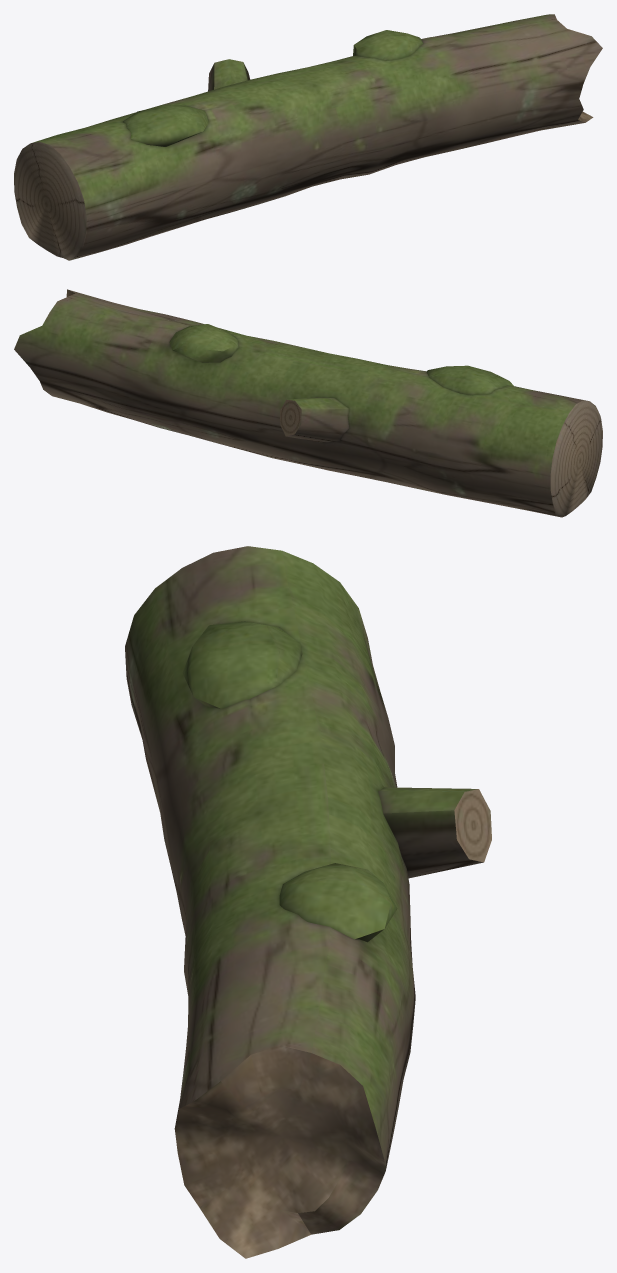
Rendered from fm_log_mossy_fallen_a.glb.
The picture shows the model from 3 angles, top to bottom: view 1: azimuth 30°, elevation 25°; view 2: azimuth 150°, elevation 25°; view 3: azimuth 270°, elevation 25°; orthographic projection. The views are drawn at different scales.
Visible parts, largest first — view 1: fm_log_mossy_fallen_a; view 2: fm_log_mossy_fallen_a; view 3: fm_log_mossy_fallen_a.
Boxes of the visible parts, x1,y1,x2,y2 form: fm_log_mossy_fallen_a: [14, 14, 602, 260]; fm_log_mossy_fallen_a: [14, 289, 602, 517]; fm_log_mossy_fallen_a: [125, 546, 491, 1258].
Size of the model in its own units: 2.47 by 0.4754 by 0.7347.
1 material, 1 textured.
